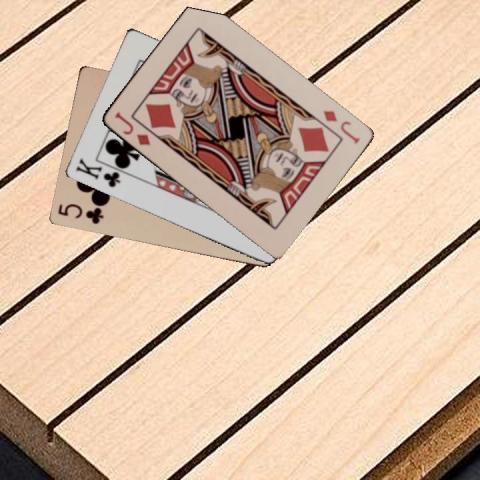5c: (54, 201, 104, 226)
Jd: (320, 107, 361, 146), (111, 109, 152, 147)
Kc: (72, 156, 121, 190)
